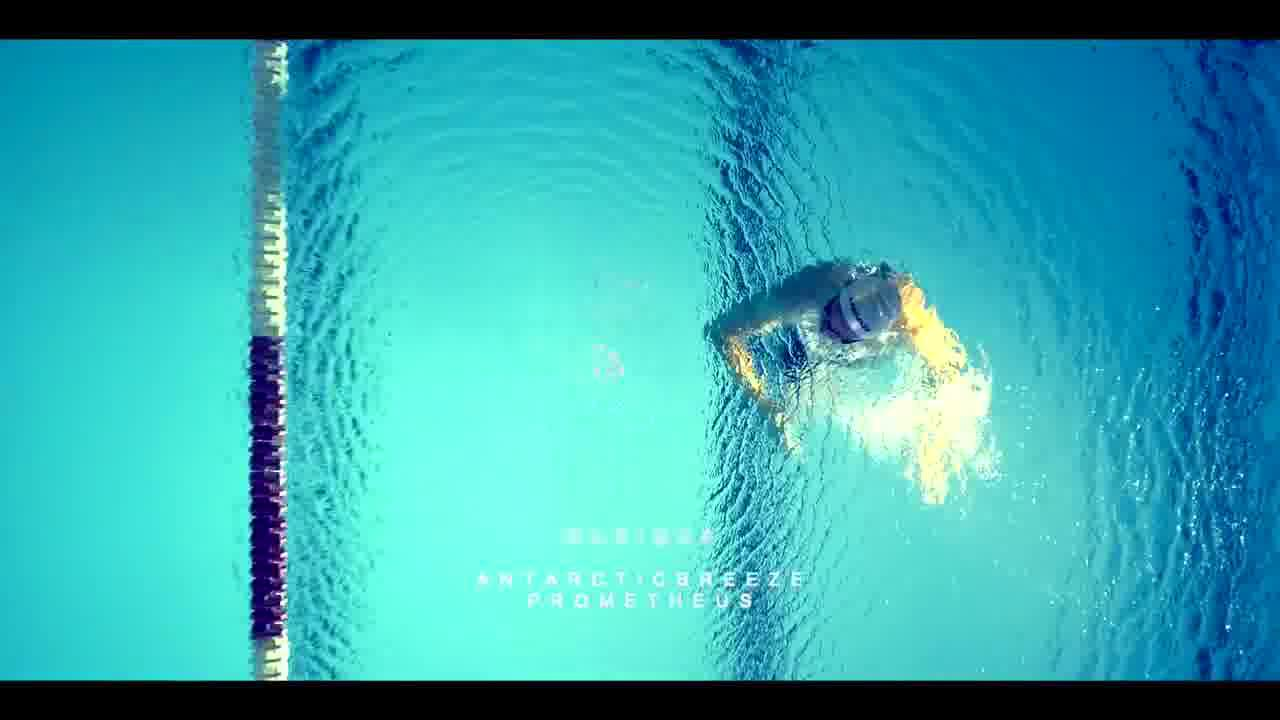swimmer: (691, 248, 1003, 482)
